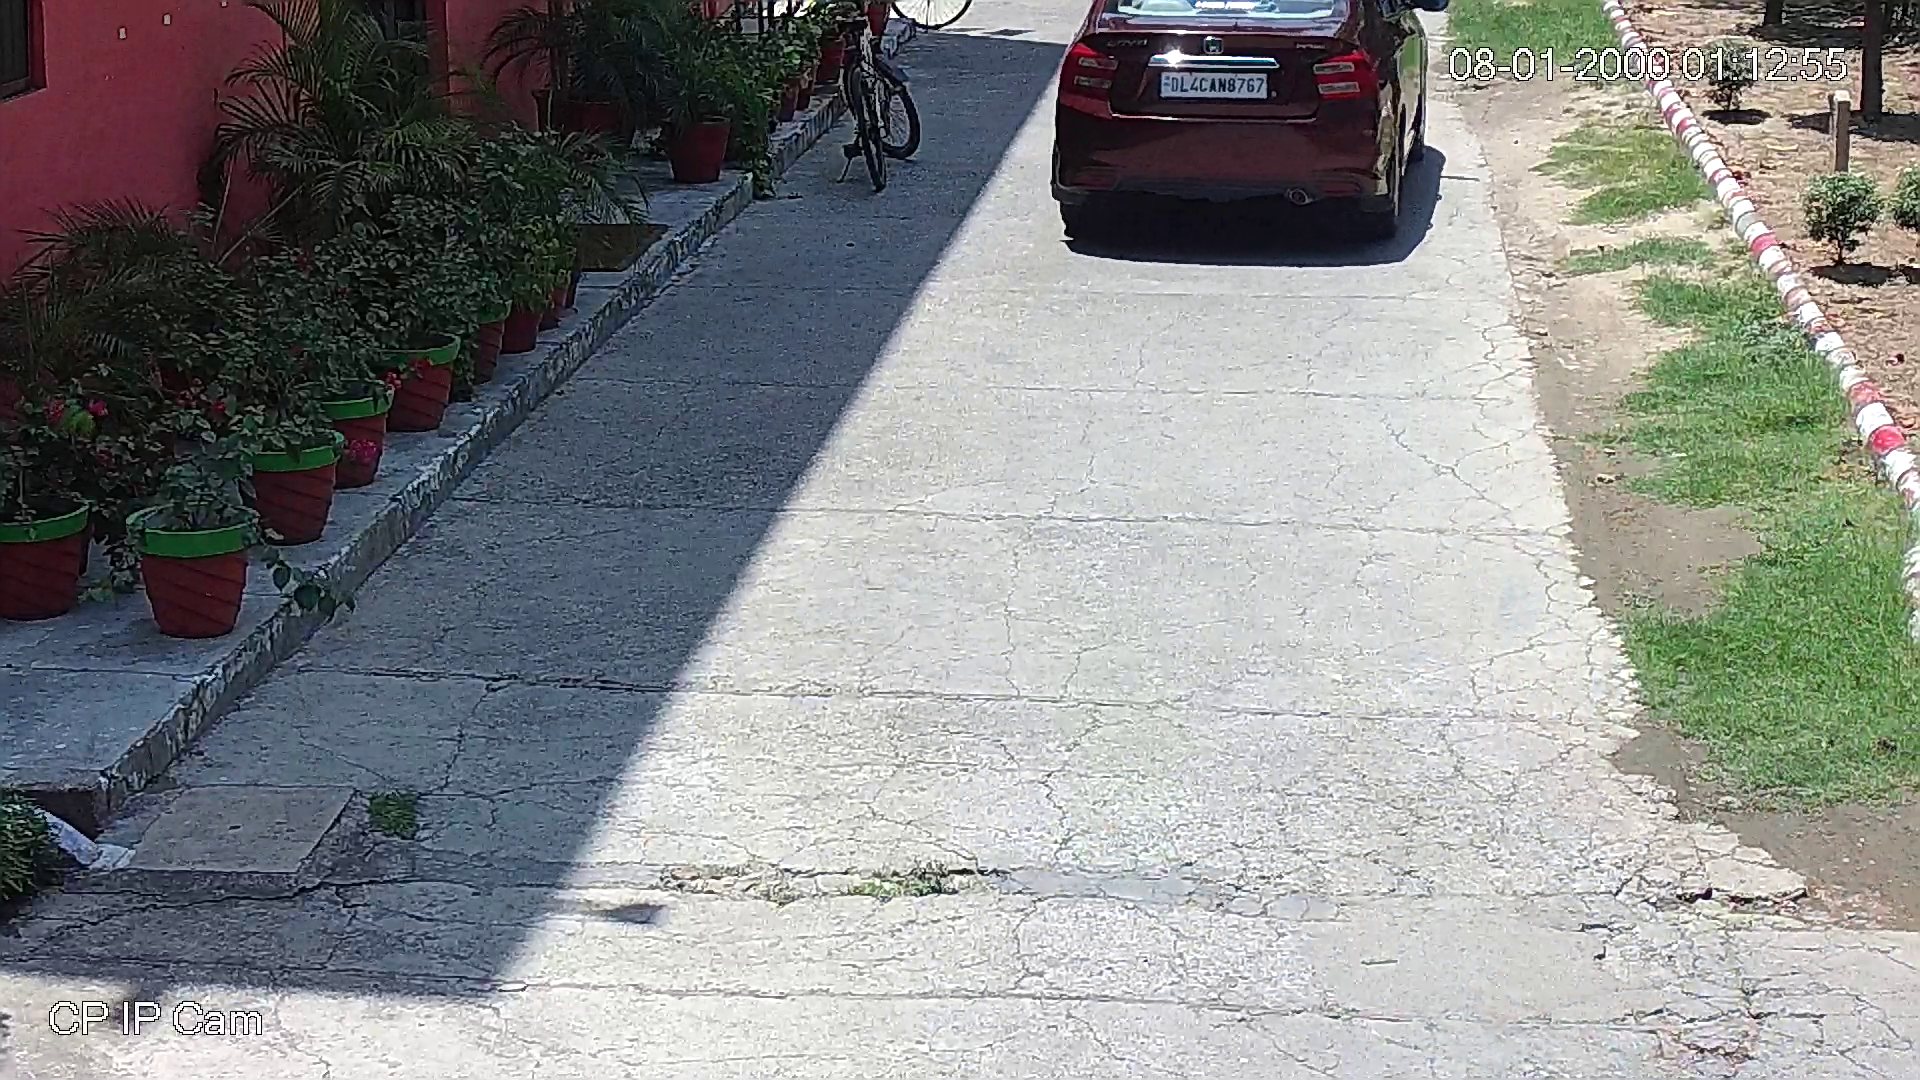plate: (1155, 67, 1275, 101)
